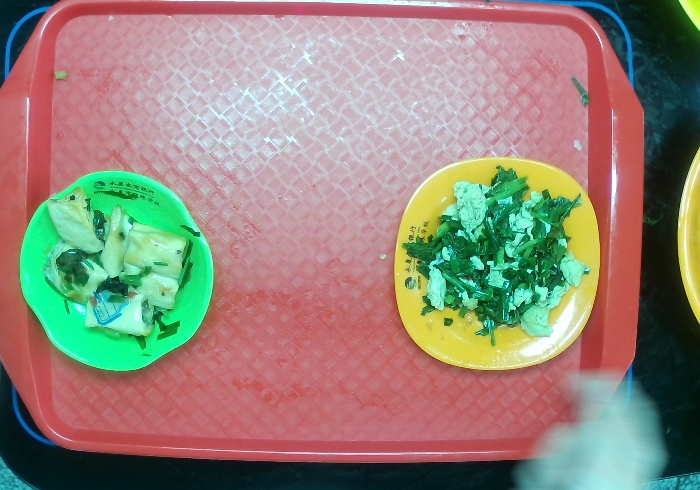YKMZ-Ju_Se_Fang_Die: (387, 152, 602, 376)
YKMZ-Lv_Se_Ao_Bian_Wan: (16, 163, 217, 375)
